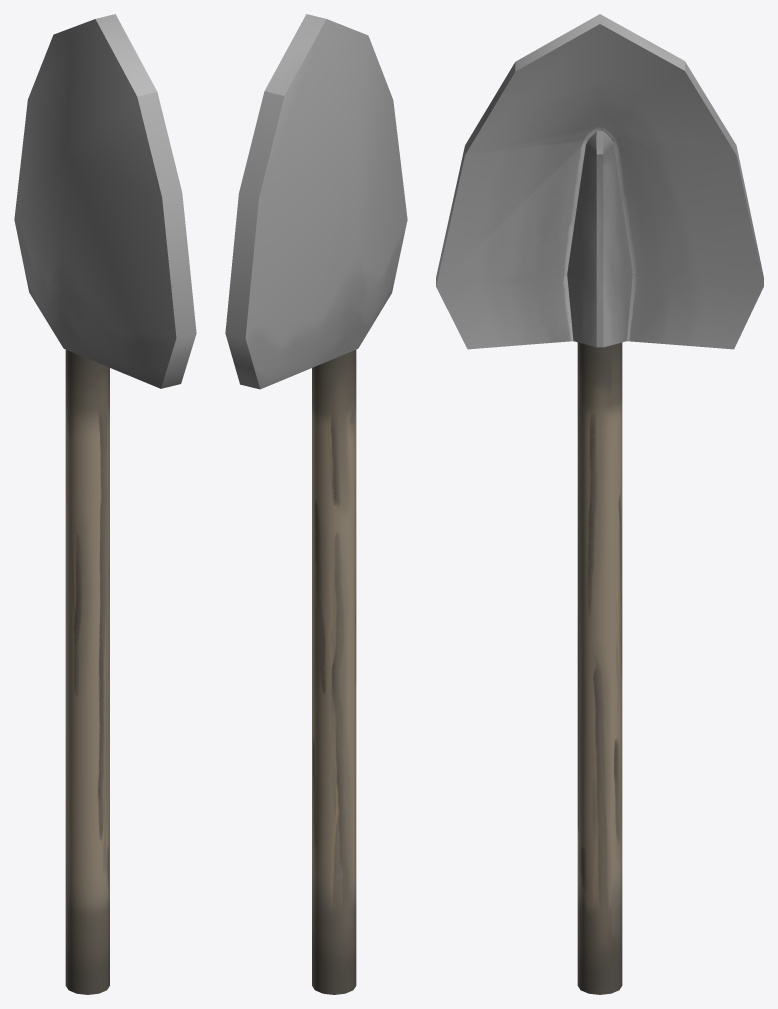
The model's file is shovel.fbx.
The picture shows the model from 3 angles, left to right: view 1: azimuth 30°, elevation 25°; view 2: azimuth 150°, elevation 25°; view 3: azimuth 270°, elevation 25°; orthographic projection.
Visible parts, largest first — view 1: pCube1, pCylinder1; view 2: pCube1, pCylinder1; view 3: pCube1, pCylinder1.
Part boxes in pixels (x1,y1,x2,y2): pCube1: [14, 14, 196, 388]; pCylinder1: [65, 350, 109, 994]; pCube1: [225, 14, 407, 389]; pCylinder1: [312, 350, 356, 994]; pCube1: [436, 14, 763, 349]; pCylinder1: [577, 342, 622, 994].
Bounding box in the file's own units: 0.5692 × 10.11 × 3.08.
